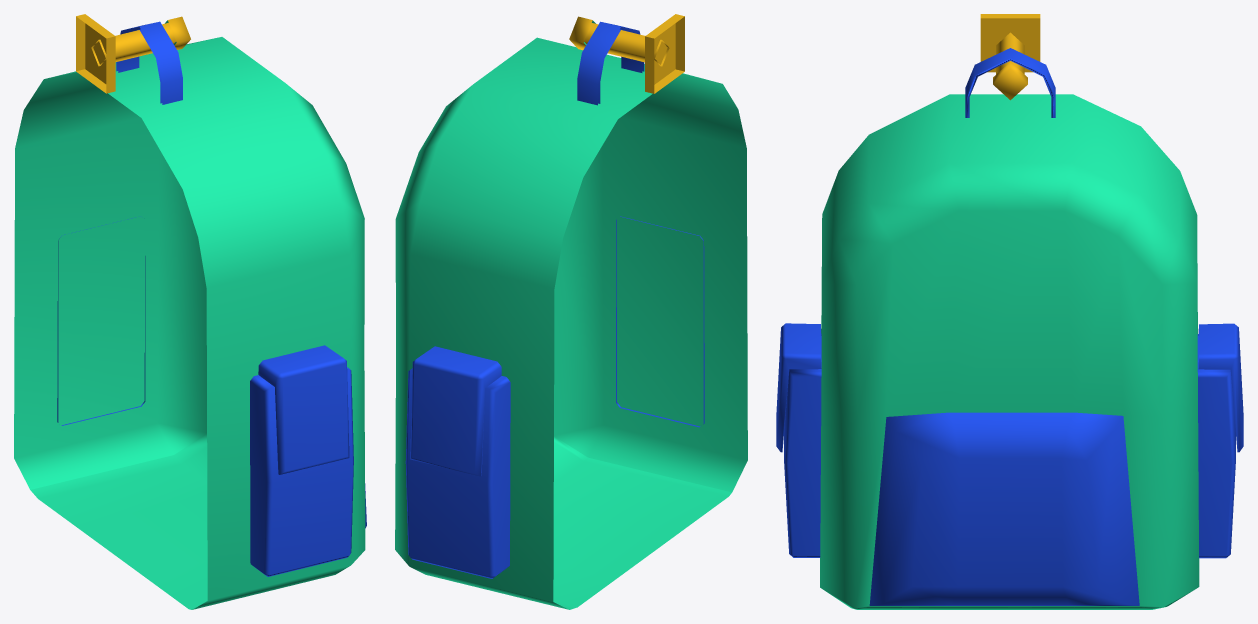
Rendered from Backpack.fbx.
3 renders of one model, left to right at view 1: azimuth 30°, elevation 25°; view 2: azimuth 150°, elevation 25°; view 3: azimuth 270°, elevation 25°, orthographic. The views are drawn at different scales.
Parts seen in each view (by area): view 1: Backpack; view 2: Backpack; view 3: Backpack.
Part boxes in pixels (x1=…): Backpack: x1=14, y1=14, x2=366, y2=609; Backpack: x1=395, y1=14, x2=747, y2=609; Backpack: x1=776, y1=14, x2=1243, y2=609.
Size of the model in its own units: 45.19 by 102 by 83.68.
